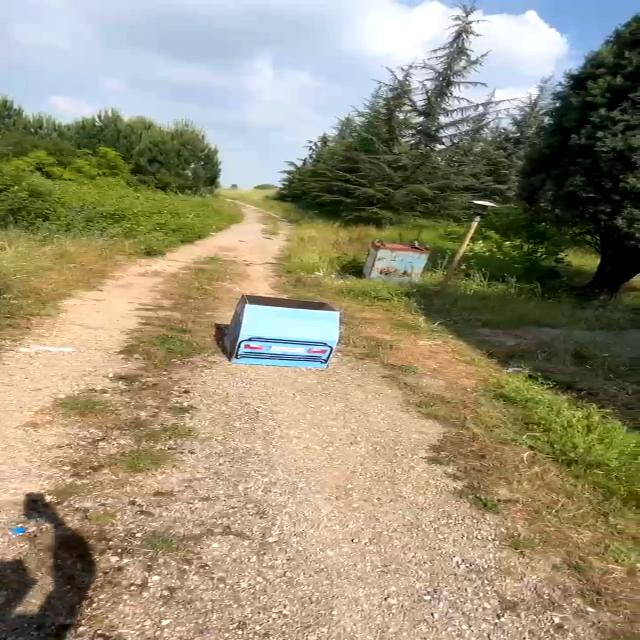blue_car: (201, 284, 358, 383)
